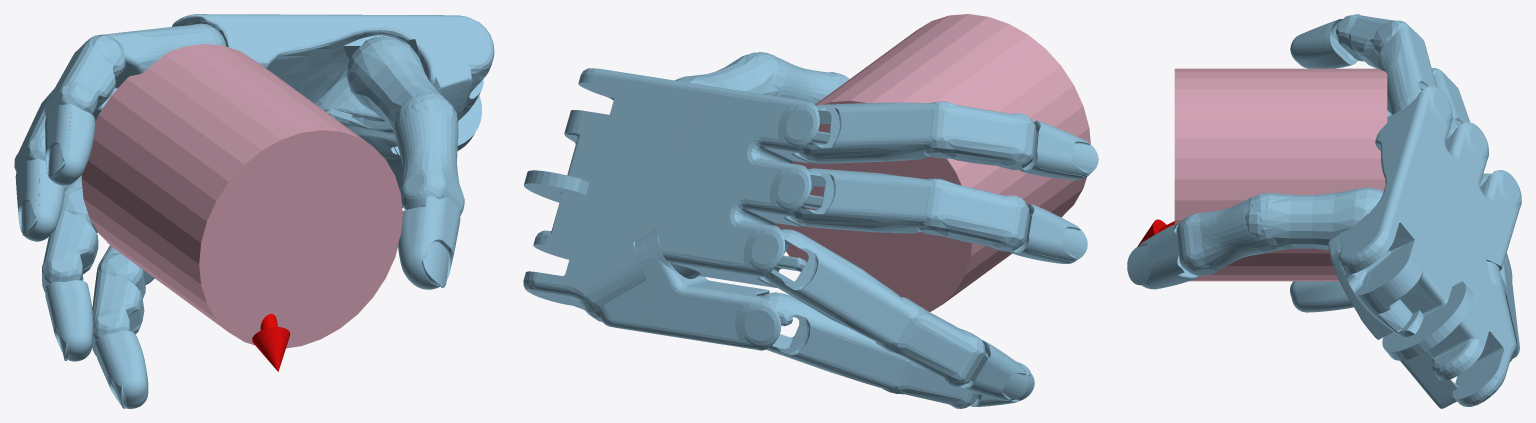
3 renders of one model, left to right at view 1: azimuth 30°, elevation 25°; view 2: azimuth 150°, elevation 25°; view 3: azimuth 270°, elevation 25°, orthographic. The views are drawn at different scales.
Parts seen in each view (by area): view 1: cylinder_medium.stl, world; view 2: world, cylinder_medium.stl; view 3: world, cylinder_medium.stl.
Boxes of the visible parts, x1,y1,x2,y2 form: cylinder_medium.stl: [81, 44, 402, 348]; world: [14, 14, 494, 408]; world: [523, 52, 1098, 408]; cylinder_medium.stl: [774, 14, 1090, 311]; world: [1127, 14, 1521, 408]; cylinder_medium.stl: [1174, 68, 1387, 281].
Bounding box in the file's own units: 0.1968 × 0.1234 × 0.1485.
